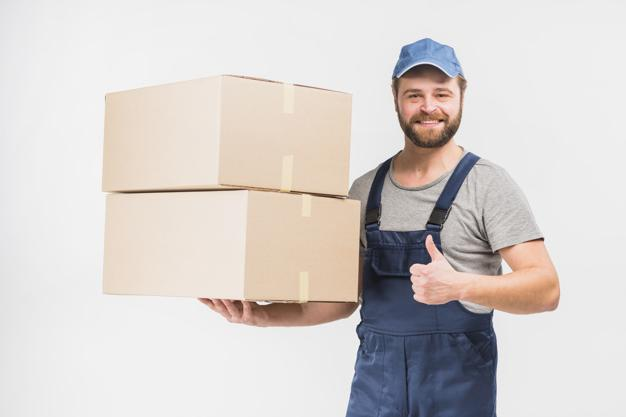thumbsup: (409, 234, 442, 305)
